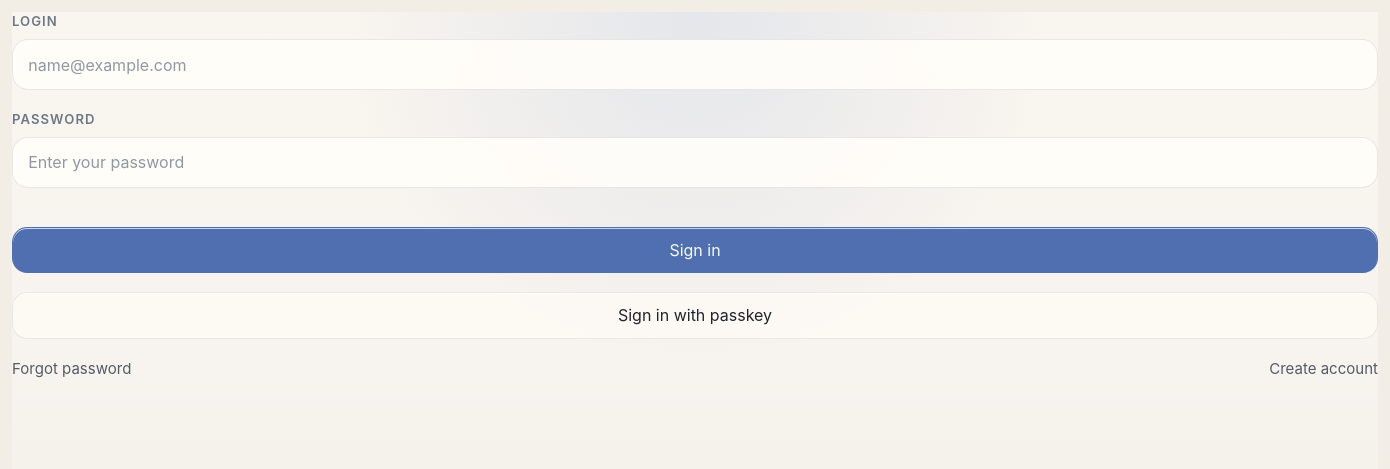
Test: LoginForm › shows the shared calm protection message for captcha failures
This screenshot has width=1390, height=469.
Type "demo@example.com" into the field labelled "Login". click: (695, 65)
box: [12,39,1378,90]
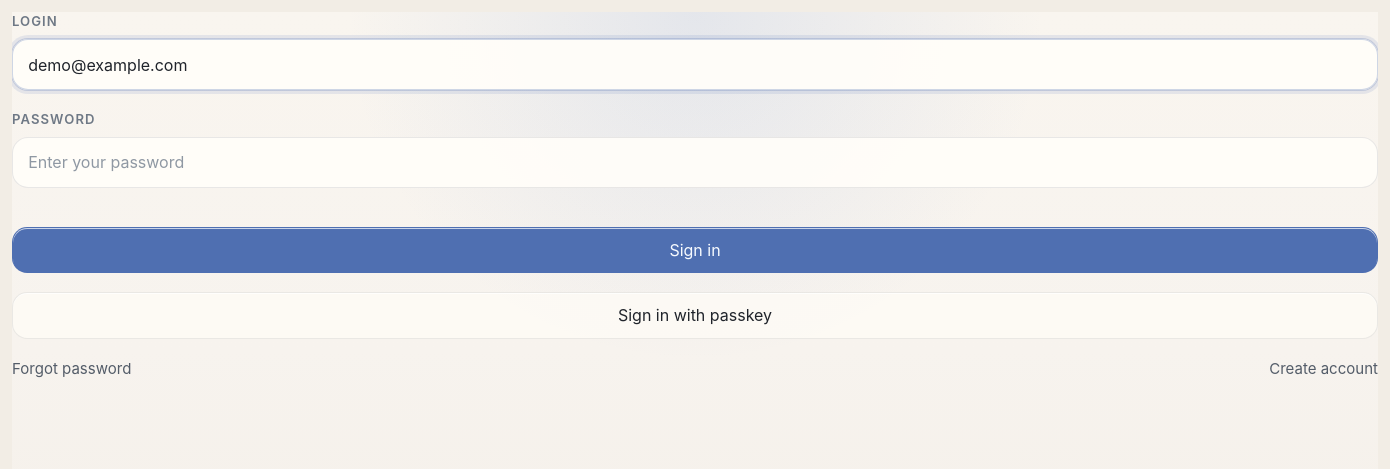
Type "very-secret" into the password field labelled "Password". click: (695, 162)
box: [12,136,1378,188]
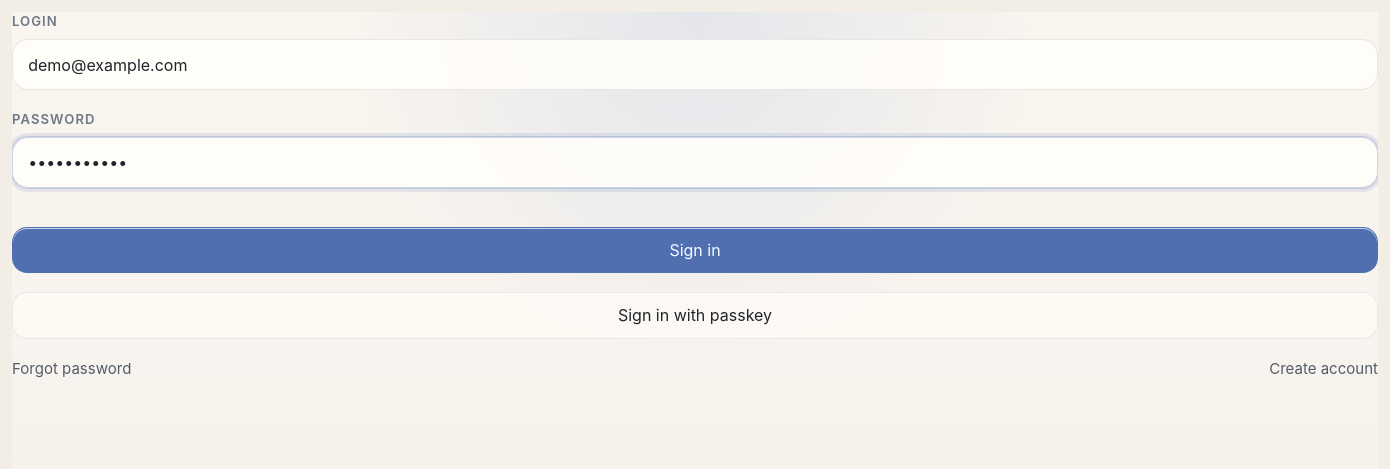
Click the button "Sign in". click: click(695, 250)
box: [12,226,1378,273]
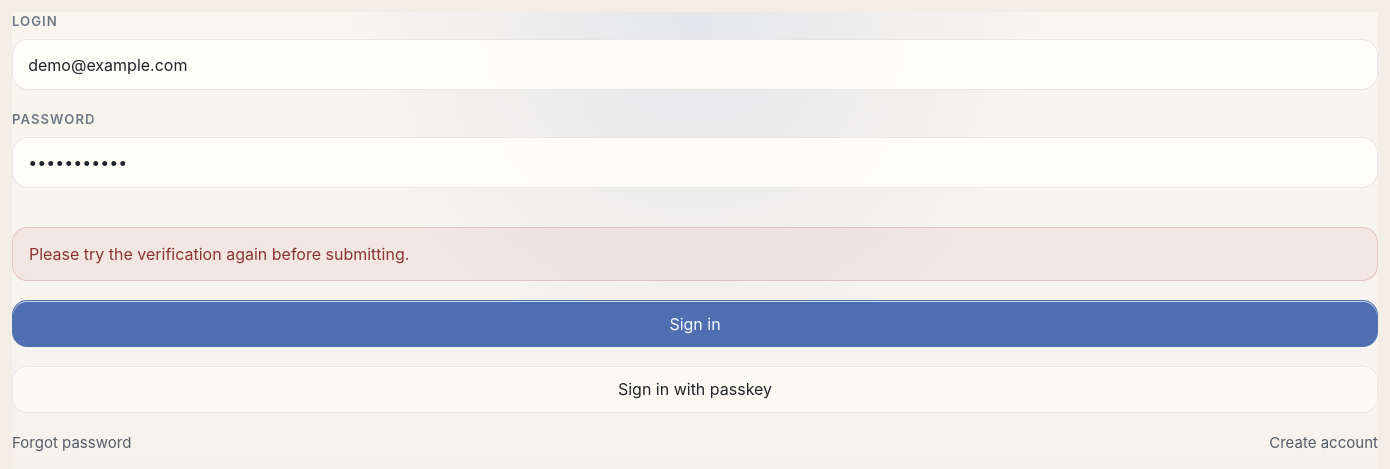
Check: the text "Please try the verification again before submitting." is shown, box [12,226,1378,281]
